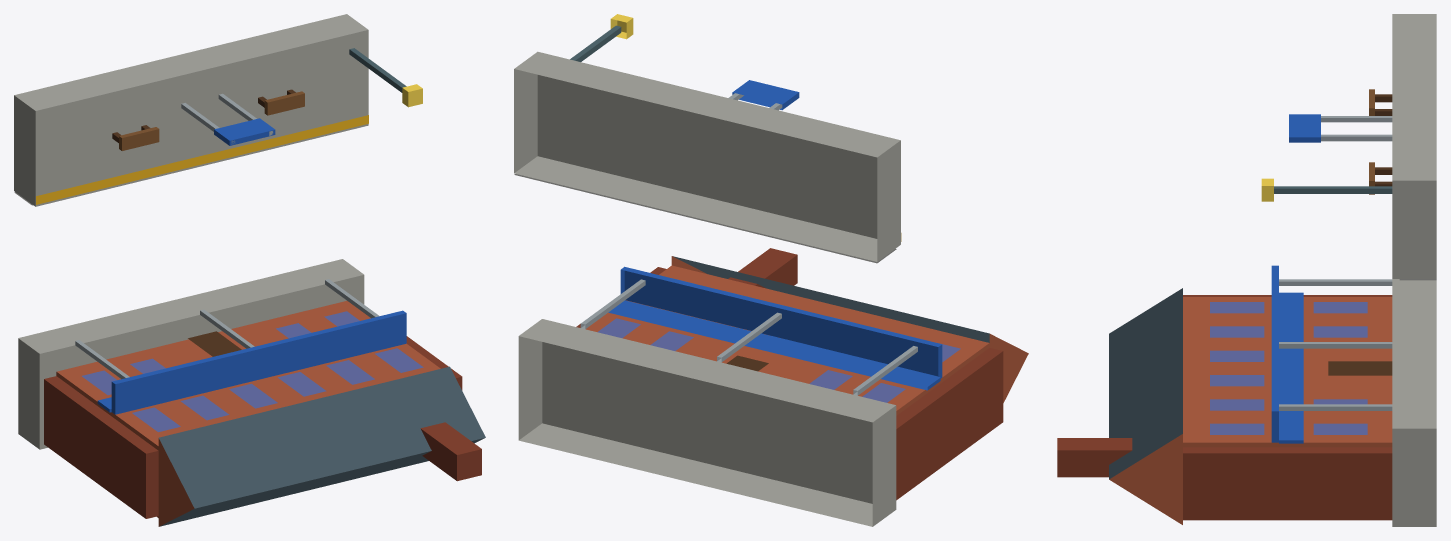
The picture shows the model from 3 angles, left to right: view 1: azimuth 30°, elevation 25°; view 2: azimuth 150°, elevation 25°; view 3: azimuth 270°, elevation 25°; orthographic projection. The views are drawn at different scales.
Parts seen in each view (by area): view 1: station_rail_building_default; view 2: station_rail_building_default; view 3: station_rail_building_default.
Boxes of the visible parts, <box> form: station_rail_building_default: <box>14,14,485,526</box>; station_rail_building_default: <box>514,14,1028,526</box>; station_rail_building_default: <box>1057,14,1436,526</box>.
Bounding box in the file's own units: 16 × 15.9 × 15.4.
